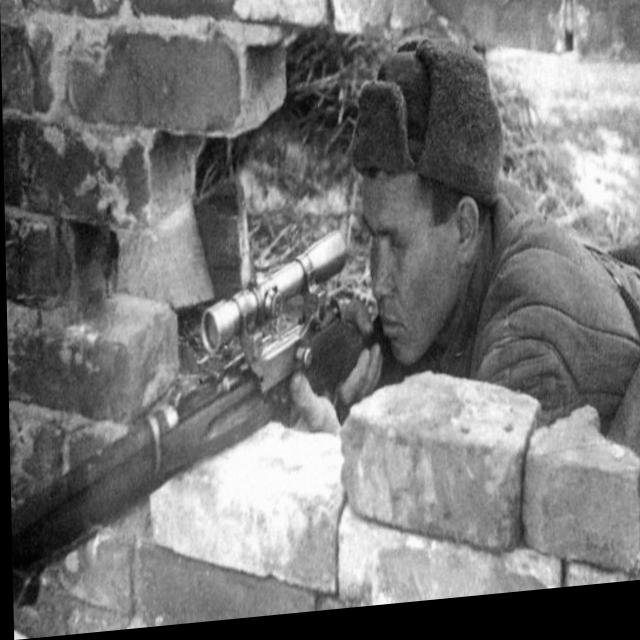other: (327, 21, 527, 467)
